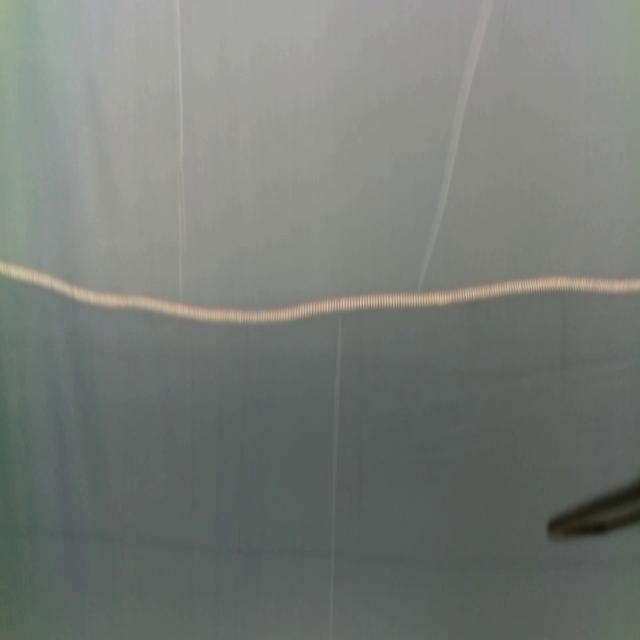color bleeding: (41, 335, 640, 389), (1, 531, 640, 577)
crease: (419, 0, 497, 292), (174, 0, 190, 306), (328, 318, 343, 638)
